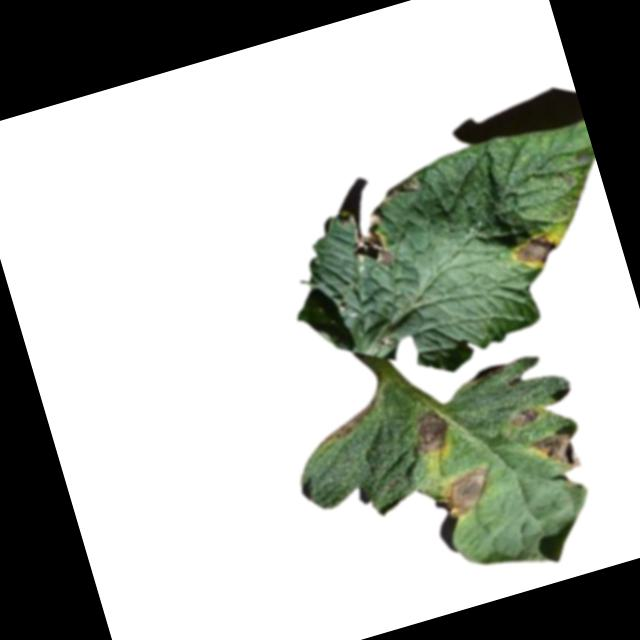Early_blight: (431, 464, 498, 523), (309, 395, 383, 446), (346, 204, 397, 272), (527, 422, 588, 477), (406, 405, 455, 456), (508, 227, 559, 275), (506, 403, 543, 432)
